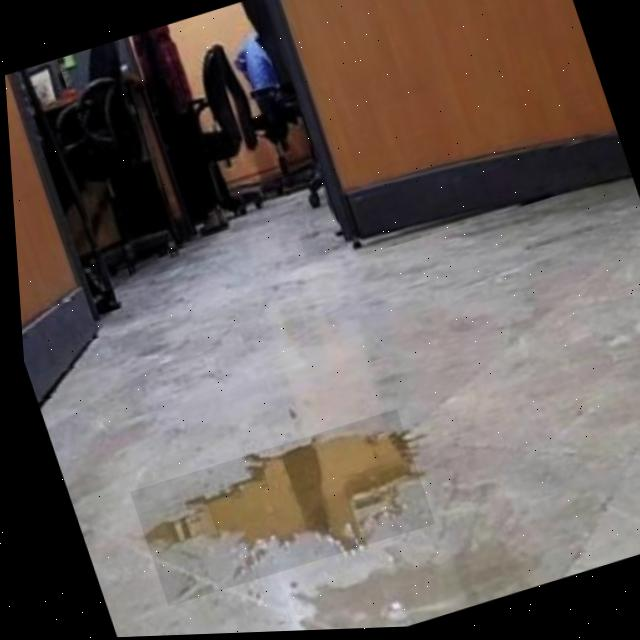spillage: (138, 435, 410, 552)
